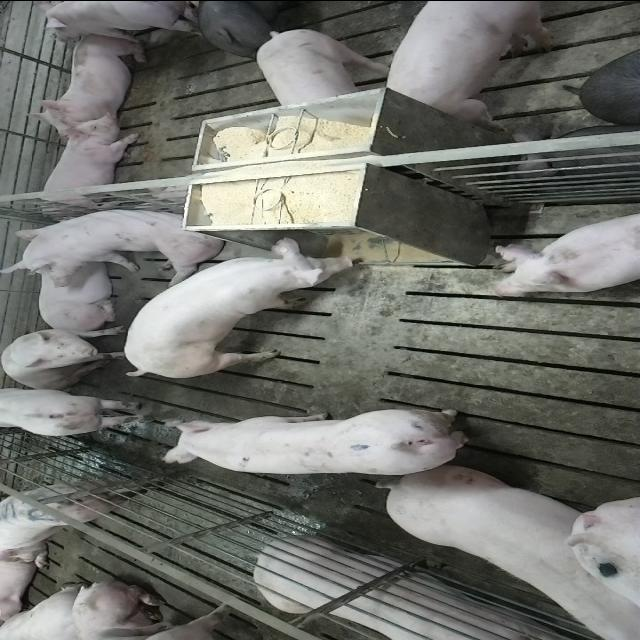Feeding: (124, 230, 370, 374)
Sitting: (8, 200, 230, 278), (1, 324, 126, 388)
Standing: (382, 2, 574, 124), (160, 407, 480, 478), (258, 27, 392, 108), (2, 384, 152, 438), (29, 0, 201, 41), (191, 0, 309, 55)
Sternal_lying: (249, 538, 579, 640), (22, 31, 146, 136), (488, 209, 640, 294), (24, 216, 126, 328)
